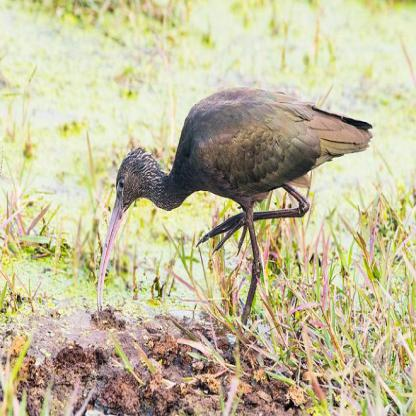Burung: (95, 84, 372, 341)
